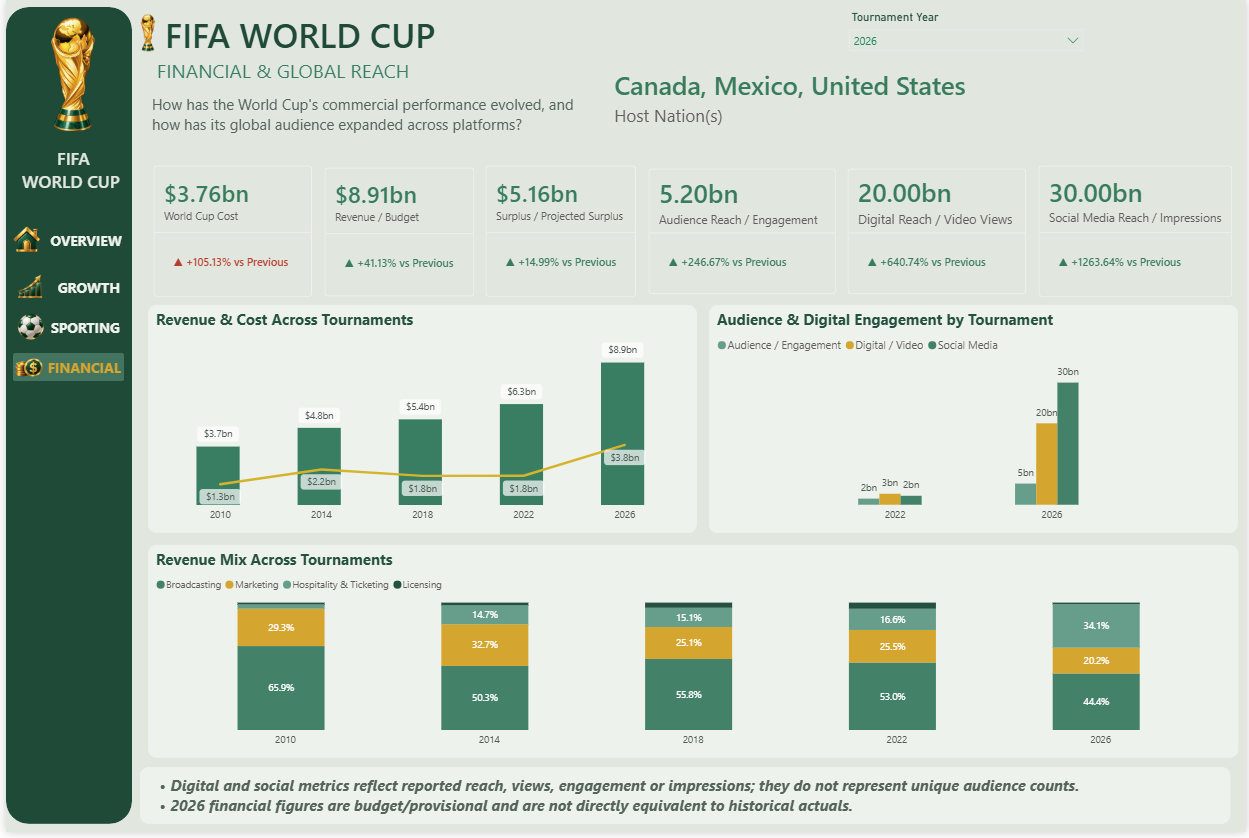

The page's visual inventory and layout, read from the dashboard file:
{"tool":"powerbi","page":{"name":"Financial & Audience Performance","canvas":[1550,1040],"ordinal":3},"visuals":[{"type":"shape","box":[0,8.8,157.5,1021.2],"z":0},{"type":"textbox","box":[193.8,8.8,412.5,71.2],"z":1000},{"type":"textbox","box":[183.8,66.2,501.2,61.2],"z":2000},{"type":"textbox","box":[177.5,112.5,562.5,80],"z":3000},{"type":"slicer","fields":{"Values":["Dim_Tournament.Year"]},"box":[1043.8,8.8,312.5,71.2],"z":4000},{"type":"cardVisual","fields":{"Data":["_Measures.Selected Host"]},"box":[731.2,66.2,568.8,108.8],"z":5000},{"type":"cardVisual","fields":{"Data":["_Measures.World Cup Cost"]},"box":[167.5,190.3,232.5,198.8],"z":6000},{"type":"cardVisual","fields":{"Data":["_Measures.Financial Revenue Display"]},"box":[380.8,192.2,221.2,195],"z":7000},{"type":"cardVisual","fields":{"Data":["_Measures.Digital Reach / Video Views"]},"box":[1035.5,194.1,257.5,191.2],"z":8000},{"type":"cardVisual","fields":{"Data":["_Measures.Social Media Reach / Impressions"]},"box":[1273.8,190.3,276.2,198.8],"z":9000},{"type":"cardVisual","fields":{"Data":["_Measures.Audience Reach / Engagement"]},"box":[786,194.1,268.8,191.2],"z":10000},{"type":"cardVisual","fields":{"Data":["_Measures.World Cup Surplus"]},"box":[582.8,190.3,222.5,198.8],"z":11000},{"type":"lineClusteredColumnComboChart","title":"Revenue & Cost Across Tournaments","fields":{"Category":["Dim_Tournament.Year"],"Y":["_Measures.Financial Revenue Display"],"Y2":["_Measures.World Cup Cost"]},"box":[177.5,381.2,686.2,285],"z":12000},{"type":"hundredPercentStackedColumnChart","title":"Revenue Mix Across Tournaments","fields":{"Category":["Dim_Tournament.Year"],"Y":["_Measures.Broadcasting Revenue Display","_Measures.Marketing Revenue Display","_Measures.Hospitality Ticketing Revenue Display","_Measures.Licensing Revenue Display"]},"box":[177.5,681.2,1362.5,266.2],"z":13000},{"type":"clusteredColumnChart","title":"Audience & Digital Engagement by Tournament","fields":{"Category":["Dim_Tournament.Year"],"Y":["_Measures.Audience Reach / Engagement","_Measures.Digital Reach / Video Views","_Measures.Social Media Reach / Impressions"]},"box":[878.8,381.2,661.2,285],"z":14000},{"type":"textbox","box":[167.5,958.8,1362.5,71.2],"z":15000},{"type":"image","box":[8.8,16.2,148.8,153.8],"z":15001},{"type":"actionButton","title":"OVERVIEW","box":[15,282.5,133.8,35],"z":15002},{"type":"textbox","box":[15,178.8,137.5,76.2],"z":15003},{"type":"actionButton","title":"GROWTH","box":[8.8,341.2,137.5,35],"z":15004},{"type":"actionButton","title":"SPORTING","box":[8.8,391.2,137.5,35],"z":15005},{"type":"actionButton","title":"FINANCIAL","box":[8.8,441.2,138.8,35],"z":15006},{"type":"image","box":[13.8,391.2,35,35],"z":15007},{"type":"image","box":[11.2,442.5,35,35],"z":15008},{"type":"image","box":[11.2,341.2,35,35],"z":15009},{"type":"image","box":[8.8,282.5,35,35],"z":15010},{"type":"image","box":[148.8,16.2,57.5,50],"z":15011}]}

Visuals, with their boxes in screenshot pixels (x1, y1, x2, y2), scaled from the page's 1550x1040 canvas onto the 1249x838 screenshot:
shape: region(0, 7, 127, 830)
textbox: region(156, 7, 489, 64)
textbox: region(148, 53, 552, 103)
textbox: region(143, 91, 596, 155)
slicer - Dim_Tournament.Year: region(841, 7, 1093, 64)
cardVisual - _Measures.Selected Host: region(589, 53, 1048, 141)
cardVisual - _Measures.World Cup Cost: region(135, 153, 322, 314)
cardVisual - _Measures.Financial Revenue Display: region(307, 155, 485, 312)
cardVisual - _Measures.Digital Reach / Video Views: region(834, 156, 1042, 310)
cardVisual - _Measures.Social Media Reach / Impressions: region(1026, 153, 1248, 314)
cardVisual - _Measures.Audience Reach / Engagement: region(633, 156, 850, 310)
cardVisual - _Measures.World Cup Surplus: region(470, 153, 649, 314)
"Revenue & Cost Across Tournaments" lineClusteredColumnComboChart: region(143, 307, 696, 537)
"Revenue Mix Across Tournaments" hundredPercentStackedColumnChart: region(143, 549, 1241, 763)
"Audience & Digital Engagement by Tournament" clusteredColumnChart: region(708, 307, 1241, 537)
textbox: region(135, 773, 1233, 830)
image: region(7, 13, 127, 137)
"OVERVIEW" actionButton: region(12, 228, 120, 256)
textbox: region(12, 144, 123, 205)
"GROWTH" actionButton: region(7, 275, 118, 303)
"SPORTING" actionButton: region(7, 315, 118, 343)
"FINANCIAL" actionButton: region(7, 356, 119, 384)
image: region(11, 315, 39, 343)
image: region(9, 357, 37, 385)
image: region(9, 275, 37, 303)
image: region(7, 228, 35, 256)
image: region(120, 13, 166, 53)
